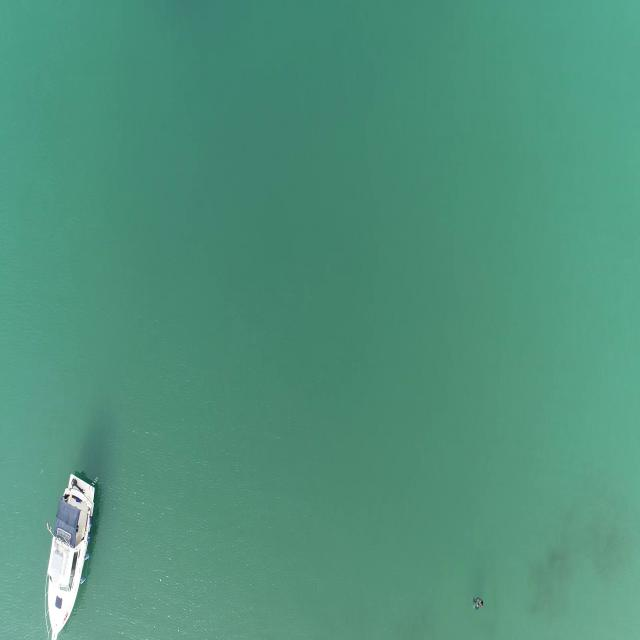boat: (40, 471, 101, 639)
person: (471, 594, 486, 612)
